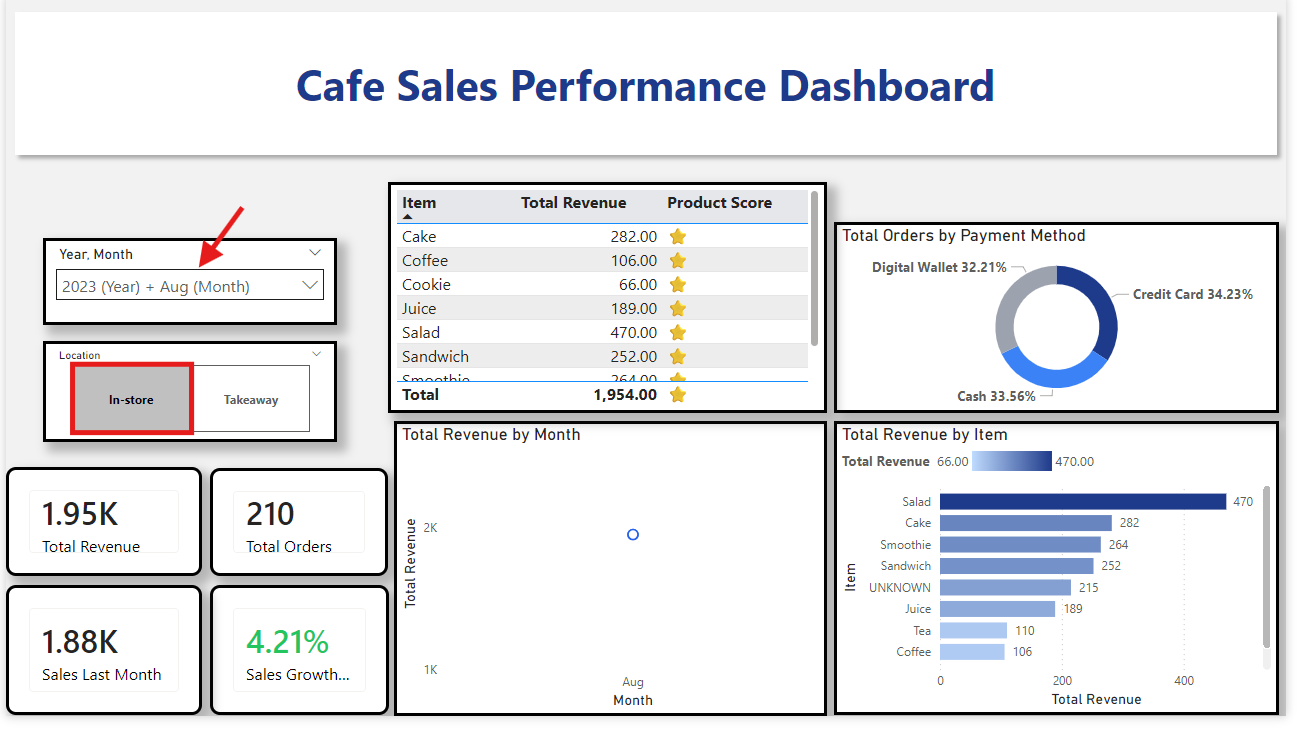

This screenshot's page, from the dashboard's own definition file:
{"tool":"powerbi","page":{"name":"Page 1","canvas":[1280,720],"ordinal":0},"visuals":[{"type":"slicer","fields":{"Values":["DateTable.Year","DateTable.Month"]},"box":[37.3,241.7,293.9,87.3],"z":0},{"type":"slicer","fields":{"Values":["dirty_cafe_sales.Location"]},"box":[37.3,345,293.9,101.2],"z":1000},{"type":"cardVisual","fields":{"Data":["_Measures.Total Revenue"]},"box":[0,470.7,195.9,109.7],"z":3000},{"type":"cardVisual","fields":{"Data":["_Measures.Total Orders"]},"box":[204.5,471.7,177.8,108.6],"z":4000},{"type":"cardVisual","fields":{"Data":["_Measures.Sales Growth %"]},"box":[204.5,588.9,178.9,129.9],"z":5000},{"type":"cardVisual","fields":{"Data":["_Measures.Sales Last Month"]},"box":[0,588.9,195.9,129.9],"z":6000},{"type":"lineChart","fields":{"Category":["DateTable.Month"],"Y":["_Measures.Total Revenue"]},"box":[387.6,424.9,433.4,295],"z":7000},{"type":"clusteredBarChart","fields":{"Y":["_Measures.Total Revenue"],"Category":["Dim_Product.Item"]},"box":[828.5,424.9,444.1,293.9],"z":8000},{"type":"donutChart","fields":{"Category":["dirty_cafe_sales.Payment Method"],"Y":["_Measures.Total Orders"]},"box":[828.5,225.8,444.1,191.7],"z":9000},{"type":"tableEx","fields":{"Values":["Dim_Product.Item","_Measures.Total Revenue","_Measures.Product Score"]},"box":[382.3,186.4,438.7,231.1],"z":10000},{"type":"shape","box":[0,7.5,1280,160.8],"z":11000},{"type":"textbox","box":[265.2,54.3,748.6,67.1],"z":12000}]}

Visuals, with their boxes in screenshot pixels (x1, y1, x2, y2), scaled from the page's 1280x720 canvas onto the 1297x745 screenshot:
slicer - DateTable.Year x DateTable.Month: [x1=38, y1=250, x2=336, y2=340]
slicer - dirty_cafe_sales.Location: [x1=38, y1=357, x2=336, y2=462]
cardVisual - _Measures.Total Revenue: [x1=0, y1=487, x2=199, y2=601]
cardVisual - _Measures.Total Orders: [x1=207, y1=488, x2=387, y2=600]
cardVisual - _Measures.Sales Growth %: [x1=207, y1=609, x2=388, y2=744]
cardVisual - _Measures.Sales Last Month: [x1=0, y1=609, x2=199, y2=744]
lineChart - DateTable.Month x _Measures.Total Revenue: [x1=393, y1=440, x2=832, y2=744]
clusteredBarChart - _Measures.Total Revenue x Dim_Product.Item: [x1=840, y1=440, x2=1290, y2=744]
donutChart - dirty_cafe_sales.Payment Method x _Measures.Total Orders: [x1=840, y1=234, x2=1290, y2=432]
tableEx - Dim_Product.Item x _Measures.Total Revenue: [x1=387, y1=193, x2=832, y2=432]
shape: [x1=0, y1=8, x2=1296, y2=174]
textbox: [x1=269, y1=56, x2=1027, y2=126]
